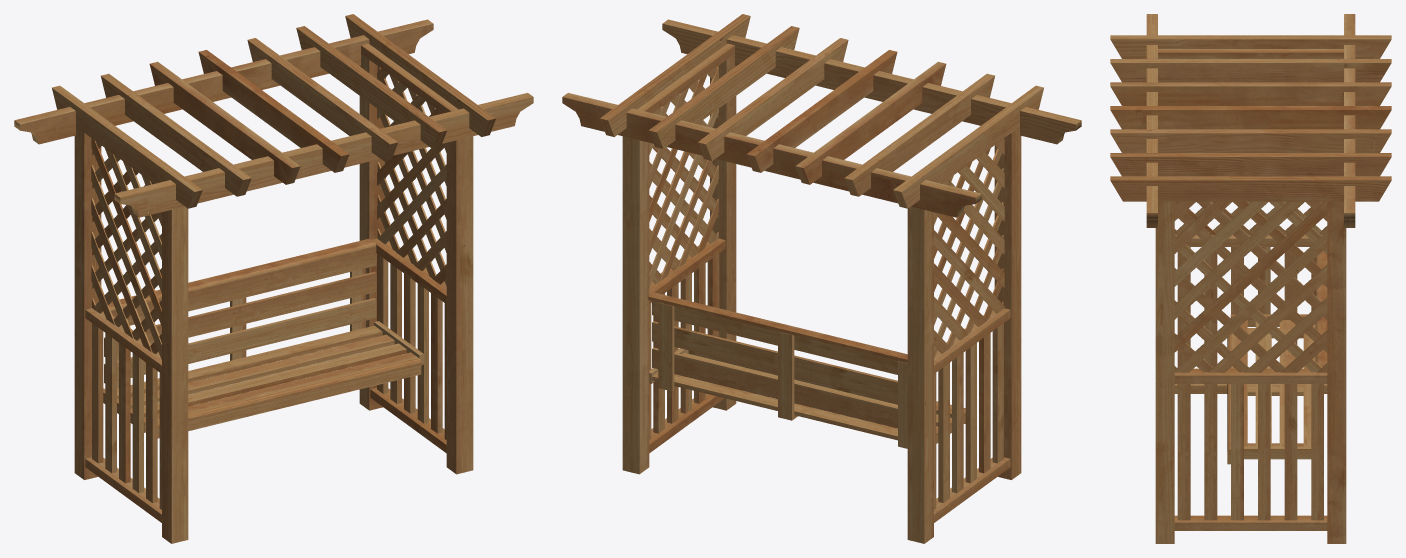
File: arbor_bench_a.FBX
3 views of the same model, side by side, from view 1: azimuth 30°, elevation 25°; view 2: azimuth 150°, elevation 25°; view 3: azimuth 270°, elevation 25° (orthographic).
Visible parts, largest first — view 1: arbor_bench_a_LOD0; view 2: arbor_bench_a_LOD0; view 3: arbor_bench_a_LOD0.
Part boxes in pixels (box(x1,y1,x2,y2)): arbor_bench_a_LOD0: box(14, 14, 533, 543); arbor_bench_a_LOD0: box(562, 14, 1081, 543); arbor_bench_a_LOD0: box(1110, 14, 1391, 543).
Size of what is drawn, in the model's own units: 247 by 210 by 147.
